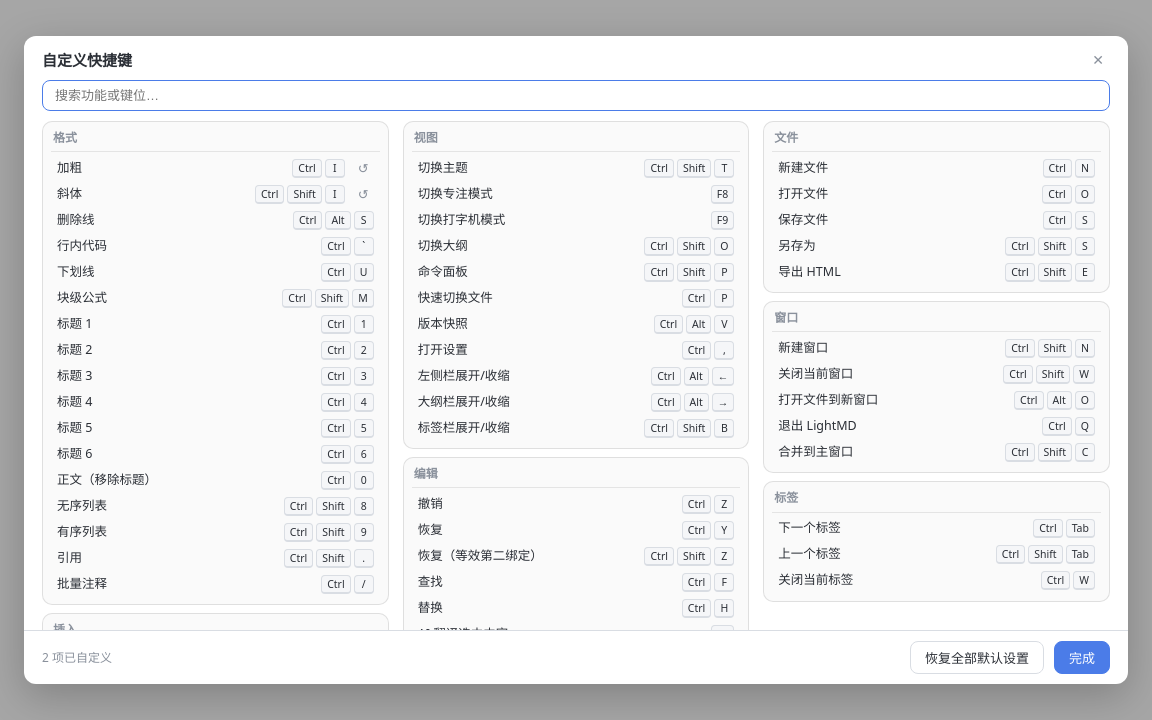
it: v0.9.0 ShortcutSettingsDialog：恢复默认（A6） › 恢复单项默认被他人占用时拒绝并给出提示（不再造出重复死绑定）
Expected: the text "斜体" is shown, [57,185,82,202]
Click the 2nd button with class "shortcut-settings-reset".
click(363, 194)  # box [353,186,374,203]
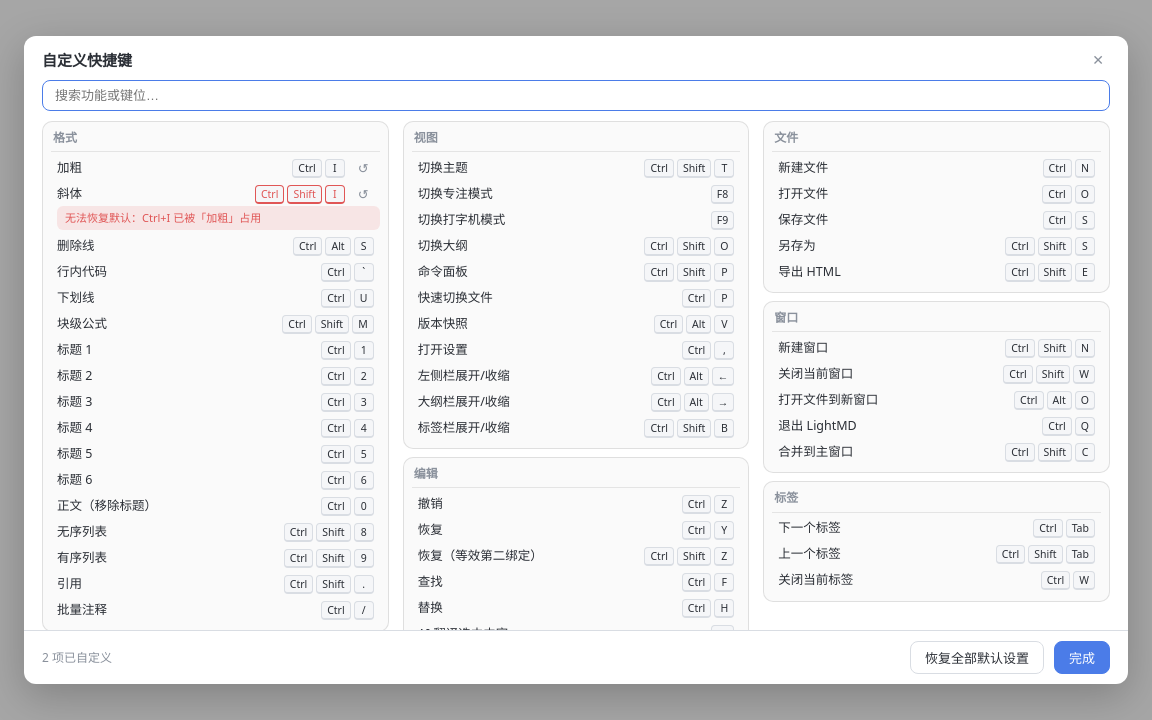
Expected: the message with class "shortcut-settings-error" reads "无法恢复默认：Ctrl+I 已被「加粗」占用", [65,210,261,225]
